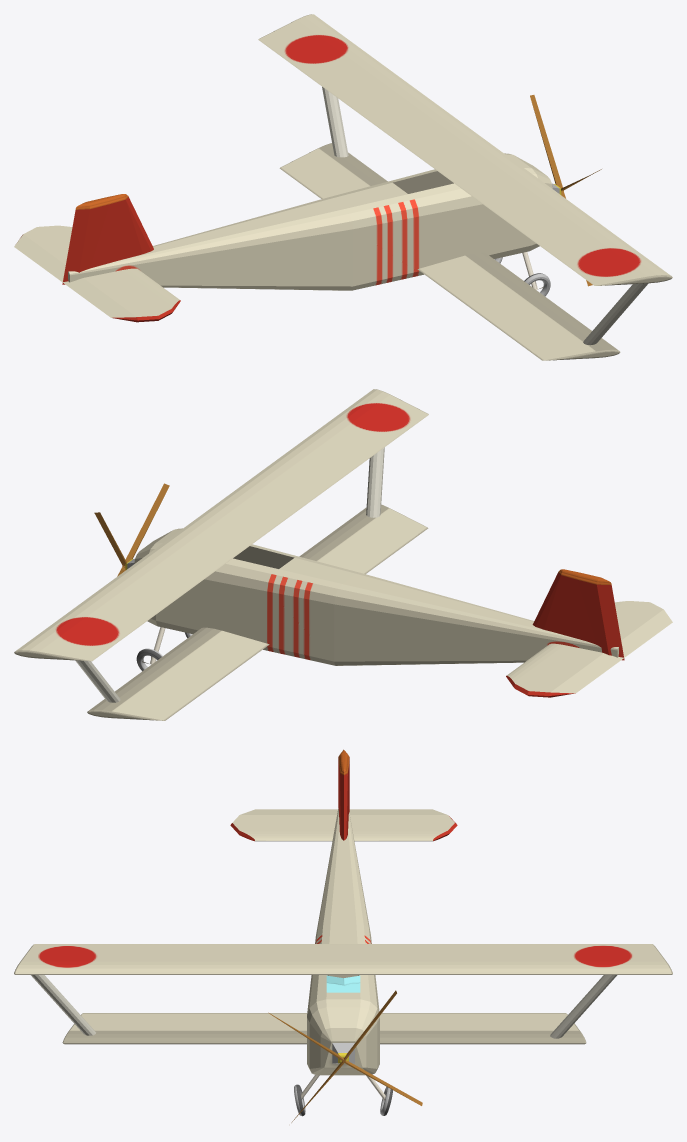
3 renders of one model, top to bottom at view 1: azimuth 30°, elevation 25°; view 2: azimuth 150°, elevation 25°; view 3: azimuth 270°, elevation 25°, orthographic. The views are drawn at different scales.
Parts seen in each view (by area): view 1: wings, body, tail, Cube; view 2: wings, body, tail, Cube, landing systum; view 3: wings, body, tail, Cube, landing systum.
Boxes of the visible parts, <box> form: wings: <box>258,14,672,360</box>; body: <box>68,153,552,290</box>; tail: <box>14,194,180,322</box>; Cube: <box>530,95,601,286</box>; wings: <box>14,389,428,720</box>; body: <box>134,528,622,665</box>; tail: <box>506,569,672,697</box>; Cube: <box>94,483,169,576</box>; landing systum: <box>136,627,192,671</box>; wings: <box>14,944,672,1044</box>; body: <box>307,808,379,1075</box>; tail: <box>230,749,457,841</box>; Cube: <box>268,990,422,1122</box>; landing systum: <box>294,1075,392,1116</box>.
Bounding box in the file's own units: 1429 × 510 × 1773.
